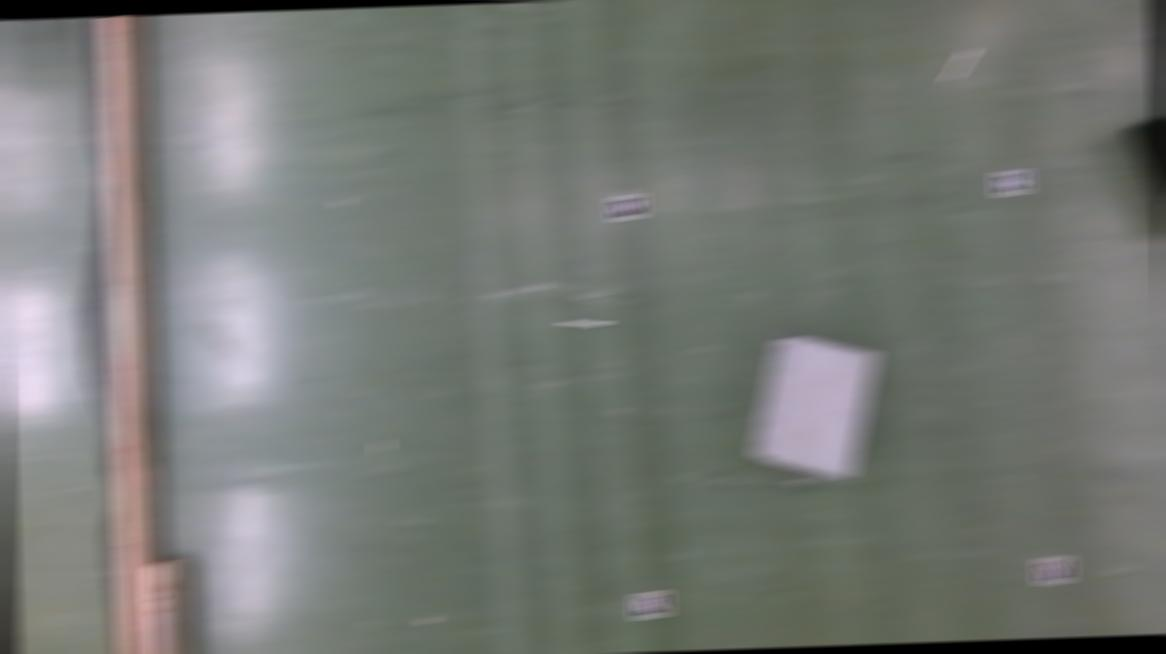probes: (944, 47, 976, 82), (561, 317, 608, 328)
rako: (745, 331, 882, 480), (1124, 101, 1166, 233)
